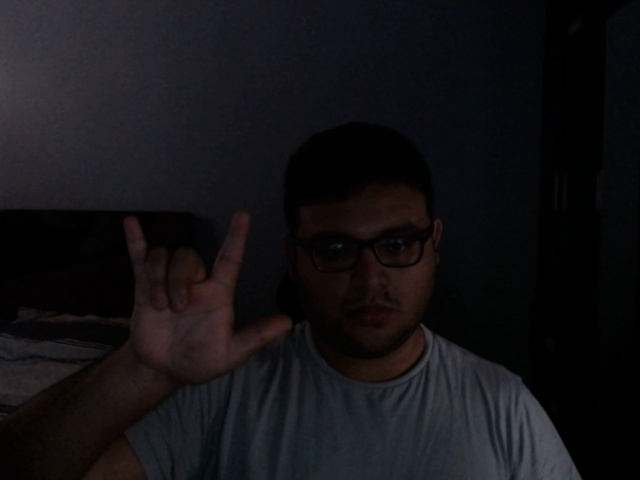I love you: (112, 206, 298, 392)
